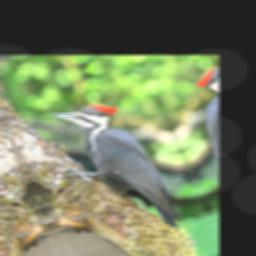Woodpecker: (38, 88, 194, 254)
